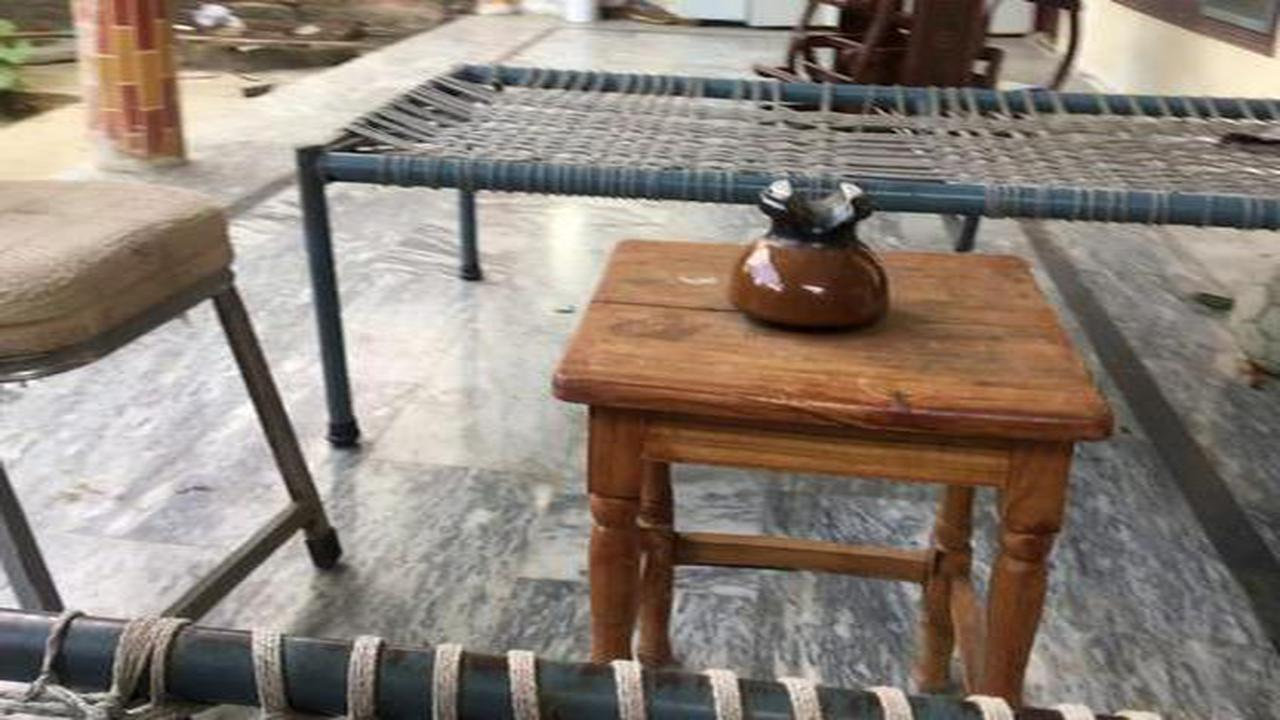insulator_pin: (708, 151, 908, 336)
